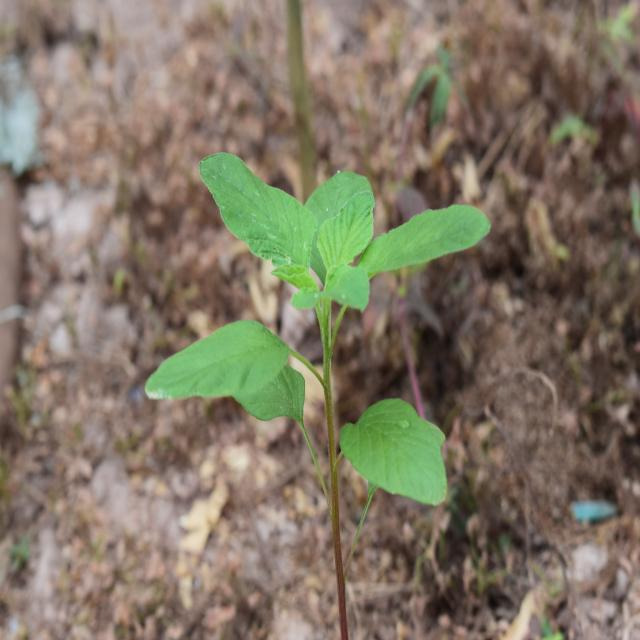pigweed: (152, 136, 494, 581)
